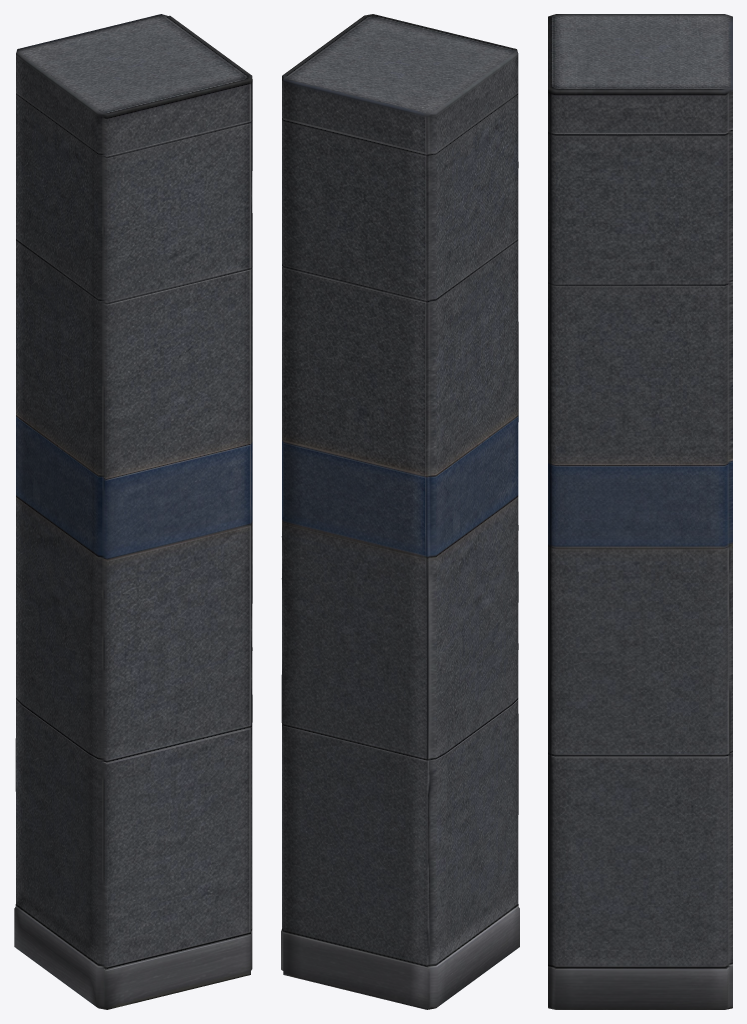
The model's file is Column.fbx.
3 renders of one model, left to right at view 1: azimuth 30°, elevation 25°; view 2: azimuth 150°, elevation 25°; view 3: azimuth 270°, elevation 25°, orthographic. The views are drawn at different scales.
Parts seen in each view (by area): view 1: tripo_node_b2019f32-a999-4226-95b3-e60a2c12ad2a; view 2: tripo_node_b2019f32-a999-4226-95b3-e60a2c12ad2a; view 3: tripo_node_b2019f32-a999-4226-95b3-e60a2c12ad2a.
Boxes of the visible parts, x1,y1,x2,y2 form: tripo_node_b2019f32-a999-4226-95b3-e60a2c12ad2a: (14,14,252,1009); tripo_node_b2019f32-a999-4226-95b3-e60a2c12ad2a: (281,14,519,1009); tripo_node_b2019f32-a999-4226-95b3-e60a2c12ad2a: (548,14,732,1009).
Size of the model in its own units: 18.16 by 99.8 by 18.16.
1 material, 1 textured.
